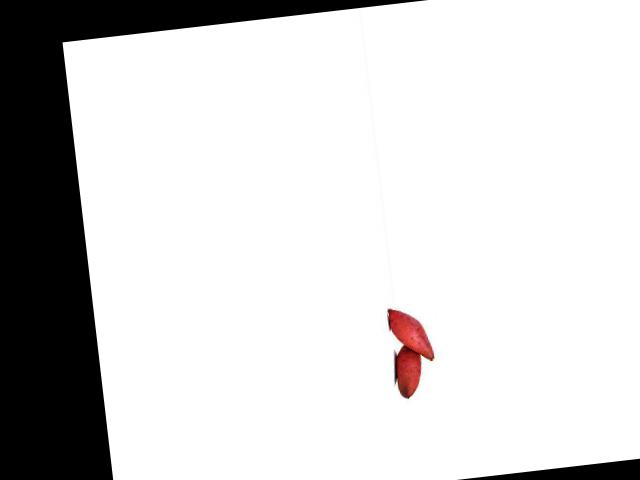sweet_potato: (392, 338, 428, 401)
